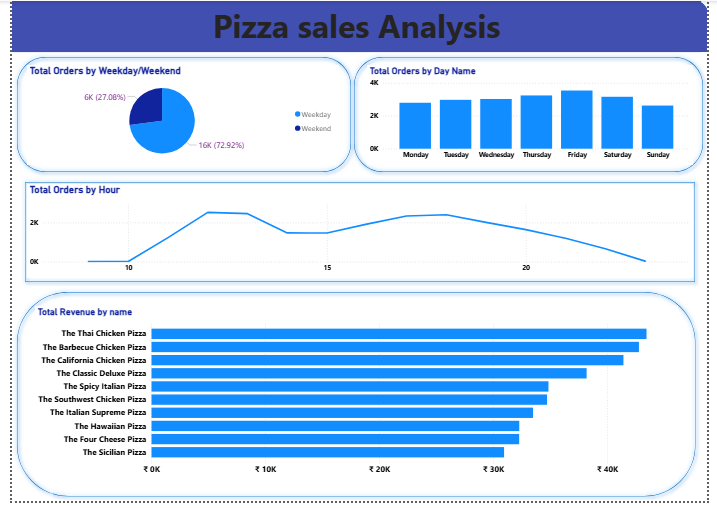

The dashboard page shown, as its layout file describes it:
{"tool":"powerbi","page":{"name":"Page 2","canvas":[1280,920],"ordinal":1},"visuals":[{"type":"shape","box":[0,0,1280.6,93.8],"z":0},{"type":"textbox","box":[0,0,1267.8,93.8],"z":1000},{"type":"shape","box":[0,526.5,1266.8,394.4],"z":2000},{"type":"clusteredBarChart","fields":{"Category":["pizza_types (1).name"],"Y":["order_details (1).Total Revenue"]},"box":[41.9,561.8,1183.1,321.7],"z":3000},{"type":"shape","box":[14.7,323.8,1251.2,202.4],"z":3500},{"type":"lineChart","fields":{"Y":["order_details (1).Total Orders"],"Category":["orders (2).Hour"]},"box":[27.6,336.7,1225.4,173],"z":4000},{"type":"shape","box":[620.1,93.8,660.6,230],"z":4500},{"type":"columnChart","fields":{"Y":["order_details (1).Total Orders"],"Category":["orders (2).Day Name"]},"box":[653.2,117.8,599.8,184],"z":5000},{"type":"shape","box":[0,93.8,633,230],"z":5001},{"type":"pieChart","fields":{"Category":["orders (2).Weekday/Weekend"],"Y":["order_details (1).Total Orders"]},"box":[27.6,117.8,574.1,184],"z":5002}]}

Visuals, with their boxes in screenshot pixels (x1, y1, x2, y2), scaled from the page's 1280x920 canvas onto the 717x508 screenshot:
shape: Rect(0, 0, 716, 52)
textbox: Rect(0, 0, 710, 52)
shape: Rect(0, 291, 710, 507)
clusteredBarChart - pizza_types (1).name x order_details (1).Total Revenue: Rect(23, 310, 686, 488)
shape: Rect(8, 179, 709, 291)
lineChart - order_details (1).Total Orders x orders (2).Hour: Rect(15, 186, 702, 281)
shape: Rect(347, 52, 716, 179)
columnChart - order_details (1).Total Orders x orders (2).Day Name: Rect(366, 65, 702, 167)
shape: Rect(0, 52, 355, 179)
pieChart - orders (2).Weekday/Weekend x order_details (1).Total Orders: Rect(15, 65, 337, 167)
